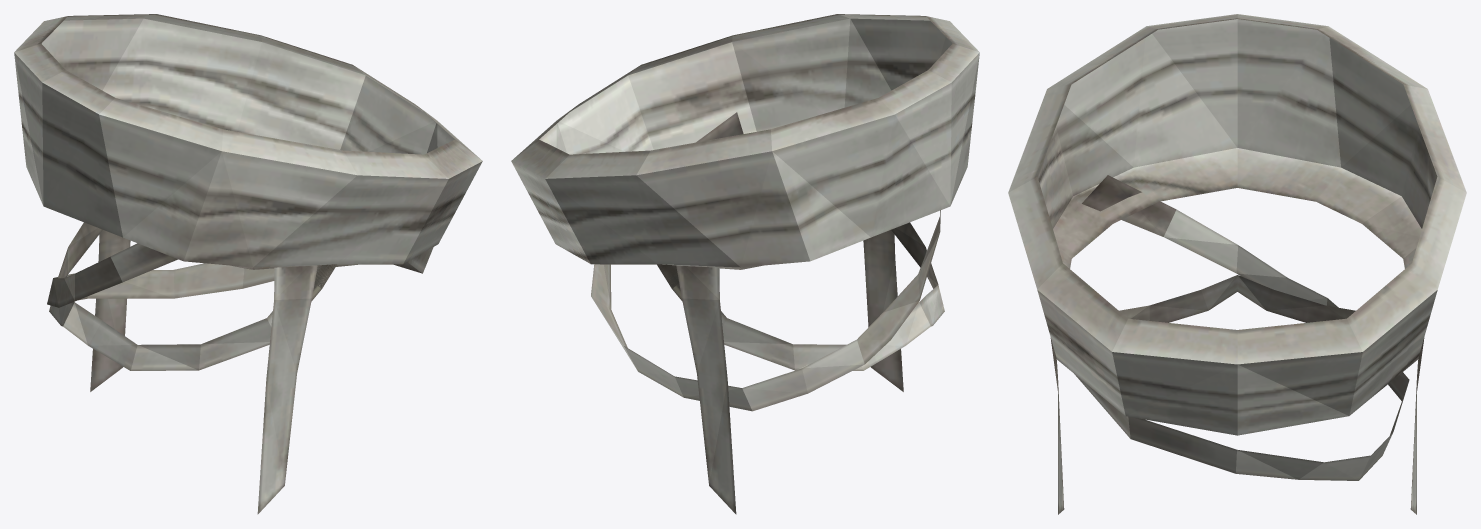
File: Monkey_mummyHead.obj
3 views of the same model, side by side, from view 1: azimuth 30°, elevation 25°; view 2: azimuth 150°, elevation 25°; view 3: azimuth 270°, elevation 25° (orthographic). The views are drawn at different scales.
Visible parts, largest first — view 1: Monkey_mummyHead_tri; view 2: Monkey_mummyHead_tri; view 3: Monkey_mummyHead_tri.
Boxes of the visible parts, bbox=[...] form: Monkey_mummyHead_tri: bbox=[14, 14, 482, 514]; Monkey_mummyHead_tri: bbox=[511, 14, 979, 514]; Monkey_mummyHead_tri: bbox=[1008, 14, 1466, 514].
Bounding box in the file's own units: 0.2739 × 0.2717 × 0.257.
Materials: 1 (1 with a texture image).
